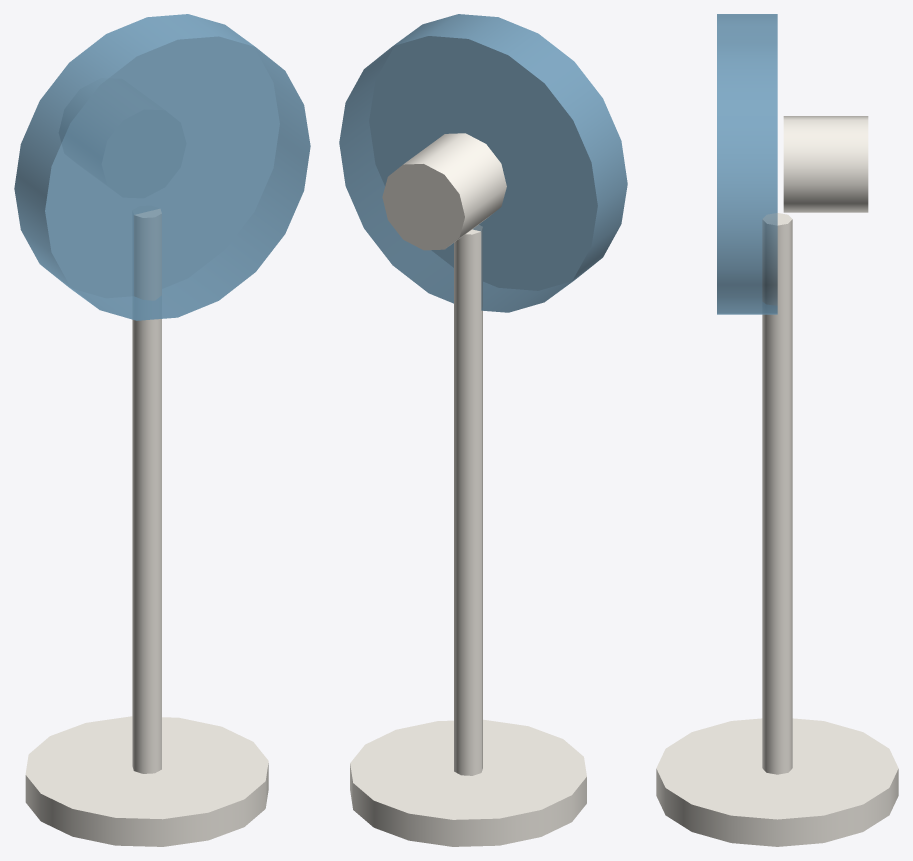
Rendered from fan.glb.
3 renders of one model, left to right at view 1: azimuth 30°, elevation 25°; view 2: azimuth 150°, elevation 25°; view 3: azimuth 270°, elevation 25°, orthographic. The views are drawn at different scales.
Parts seen in each view (by area): view 1: Cage, Base, Pole; view 2: Cage, Base, Pole, Motor; view 3: Base, Cage, Pole, Motor.
Part boxes in pixels (<box>): Cage: <box>14,14,310,320</box>; Base: <box>25,716,268,846</box>; Pole: <box>132,209,161,773</box>; Cage: <box>339,14,627,312</box>; Base: <box>350,719,586,846</box>; Pole: <box>454,225,482,775</box>; Motor: <box>382,133,506,250</box>; Base: <box>656,718,898,846</box>; Cage: <box>717,14,777,314</box>; Pole: <box>762,213,792,774</box>; Motor: <box>783,116,868,212</box>.
Bounding box in the file's own units: 0.5 × 1.4 × 0.4.
